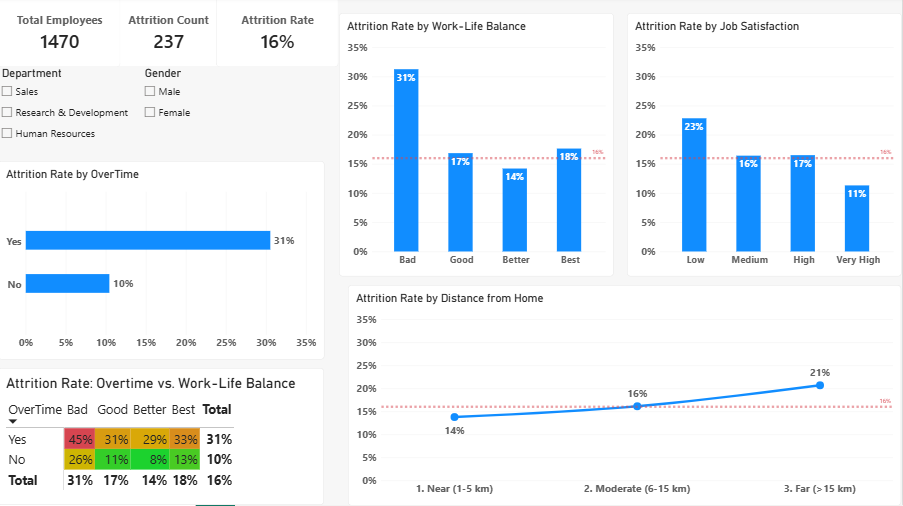

What the dashboard file says about the page in this screenshot:
{"tool":"powerbi","page":{"name":"Attrition Risk & Well-Being Drivers","canvas":[1920,1080],"ordinal":0},"visuals":[{"type":"barChart","fields":{"Category":["Employees.OverTime"],"Y":["Employees.Attrition Rate"]},"box":[0,349.5,694.1,422],"z":0},{"type":"cardVisual","fields":{"Data":["Employees.Attrition Count"]},"box":[231.7,0,260.6,149.8],"z":1000},{"type":"clusteredColumnChart","title":"Attrition Rate by Work-Life Balance","fields":{"Category":["Employees.WorkLifeBalance Desc"],"Y":["Employees.Attrition Rate"]},"box":[725.6,34.5,584,560],"z":2000},{"type":"cardVisual","fields":{"Data":["Employees.Total Employees"]},"box":[0,0,260.6,149.8],"z":3000},{"type":"cardVisual","fields":{"Data":["Employees.Attrition Rate"]},"box":[463.5,0,260.6,149.8],"z":4000},{"type":"clusteredColumnChart","title":"Attrition Rate by Job Satisfaction","fields":{"Category":["Employees.JobSatisfaction Desc"],"Y":["Employees.Attrition Rate"]},"box":[1336.7,34.5,584,560],"z":5000},{"type":"pivotTable","title":"Attrition Rate: Overtime vs. Work-Life Balance","fields":{"Columns":["Employees.WorkLifeBalance Desc"],"Rows":["Employees.OverTime"],"Values":["Employees.Attrition Rate"]},"box":[0,788.7,693.1,291.3],"z":6000},{"type":"lineChart","title":"Attrition Rate by Distance from Home","fields":{"Category":["Employees.Distance Group"],"Y":["Employees.Attrition Rate"]},"box":[743.1,611.7,1176,469.4],"z":7000},{"type":"slicer","fields":{"Values":["Employees.Department"]},"box":[0,149.8,304.6,167.3],"z":8000},{"type":"slicer","fields":{"Values":["Employees.Gender"]},"box":[304.6,149.8,304.6,167.3],"z":9000}]}

Visuals, with their boxes in screenshot pixels (x1, y1, x2, y2), scaled from the page's 1920x1080 canvas onto the 903x506 screenshot:
barChart - Employees.OverTime x Employees.Attrition Rate: {"left": 0, "top": 164, "right": 326, "bottom": 361}
cardVisual - Employees.Attrition Count: {"left": 109, "top": 0, "right": 232, "bottom": 70}
"Attrition Rate by Work-Life Balance" clusteredColumnChart: {"left": 341, "top": 16, "right": 616, "bottom": 279}
cardVisual - Employees.Total Employees: {"left": 0, "top": 0, "right": 123, "bottom": 70}
cardVisual - Employees.Attrition Rate: {"left": 218, "top": 0, "right": 341, "bottom": 70}
"Attrition Rate by Job Satisfaction" clusteredColumnChart: {"left": 629, "top": 16, "right": 902, "bottom": 279}
"Attrition Rate: Overtime vs. Work-Life Balance" pivotTable: {"left": 0, "top": 370, "right": 326, "bottom": 505}
"Attrition Rate by Distance from Home" lineChart: {"left": 349, "top": 287, "right": 902, "bottom": 505}
slicer - Employees.Department: {"left": 0, "top": 70, "right": 143, "bottom": 149}
slicer - Employees.Gender: {"left": 143, "top": 70, "right": 287, "bottom": 149}
